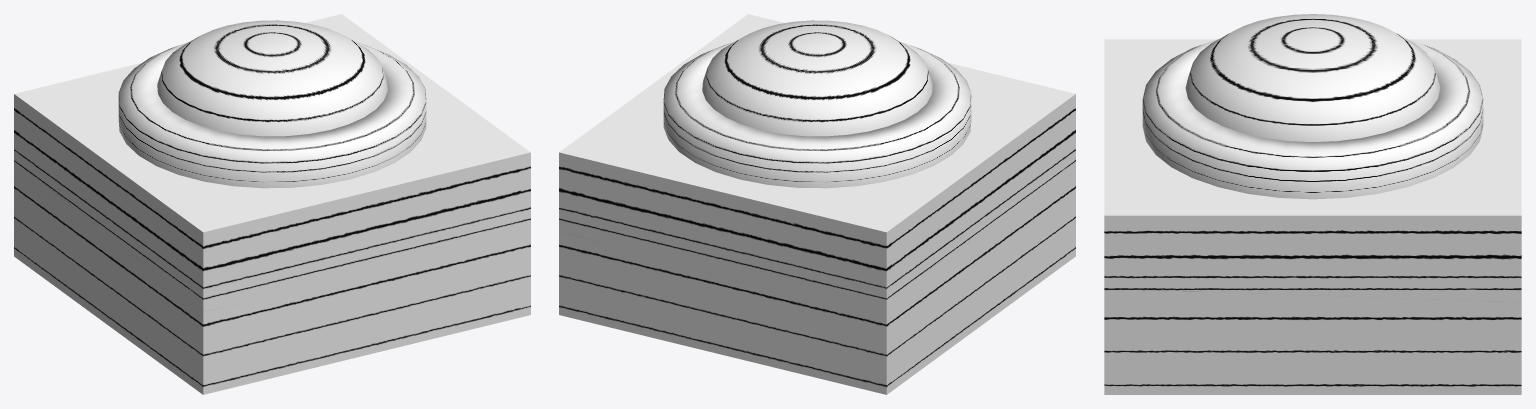
Rendered from Aquaduct knop.fbx.
3 views of the same model, side by side, from view 1: azimuth 30°, elevation 25°; view 2: azimuth 150°, elevation 25°; view 3: azimuth 270°, elevation 25° (orthographic). The views are drawn at different scales.
Parts seen in each view (by area): view 1: Standaard, Knop, Cillinder; view 2: Standaard, Knop, Cillinder; view 3: Standaard, Knop, Cillinder.
Part boxes in pixels (x1,y1,x2,y2): Standaard: (14,14,530,394); Knop: (157,20,387,136); Cillinder: (118,42,426,188); Standaard: (559,14,1075,394); Knop: (702,20,932,136); Cillinder: (663,42,971,188); Standaard: (1104,39,1521,394); Knop: (1185,14,1440,141); Cillinder: (1142,38,1483,199).
Size of the model in its own units: 30.49 by 21.61 by 30.49.
Materials: 1 (1 with a texture image).
